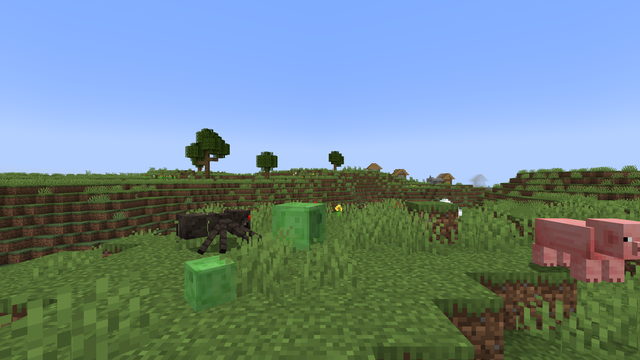araignees: (178, 205, 255, 251)
cochons: (530, 217, 633, 282)
slimes: (180, 255, 234, 308), (276, 201, 320, 249)
